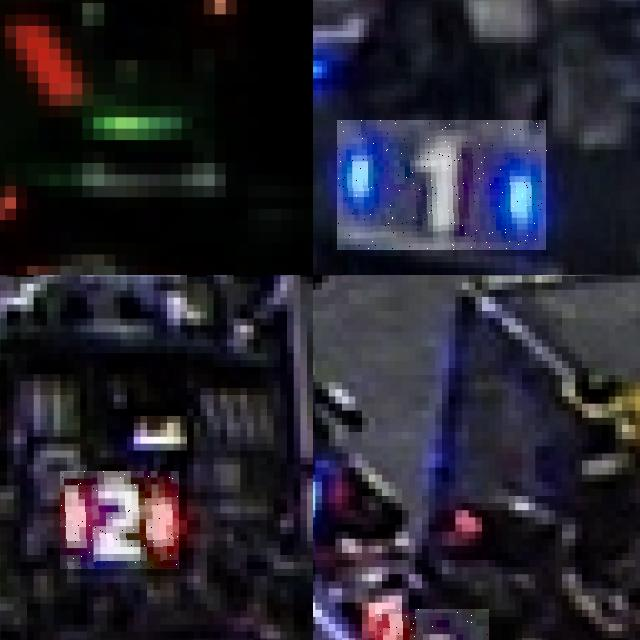B1: (338, 120, 548, 250)
R1: (375, 609, 488, 640)
R2: (61, 471, 180, 569)
